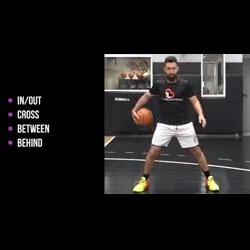BasketBall: (132, 106, 154, 127)
